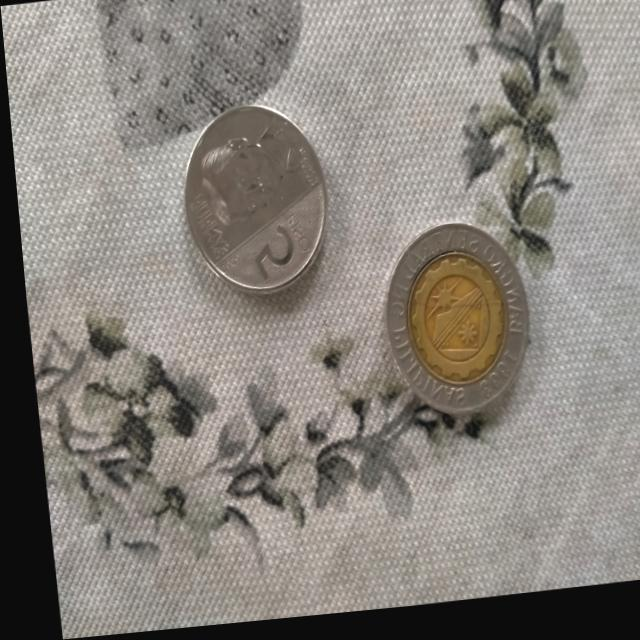10_Old_Back: (371, 225, 531, 426)
5_New_Front: (240, 209, 314, 286)
